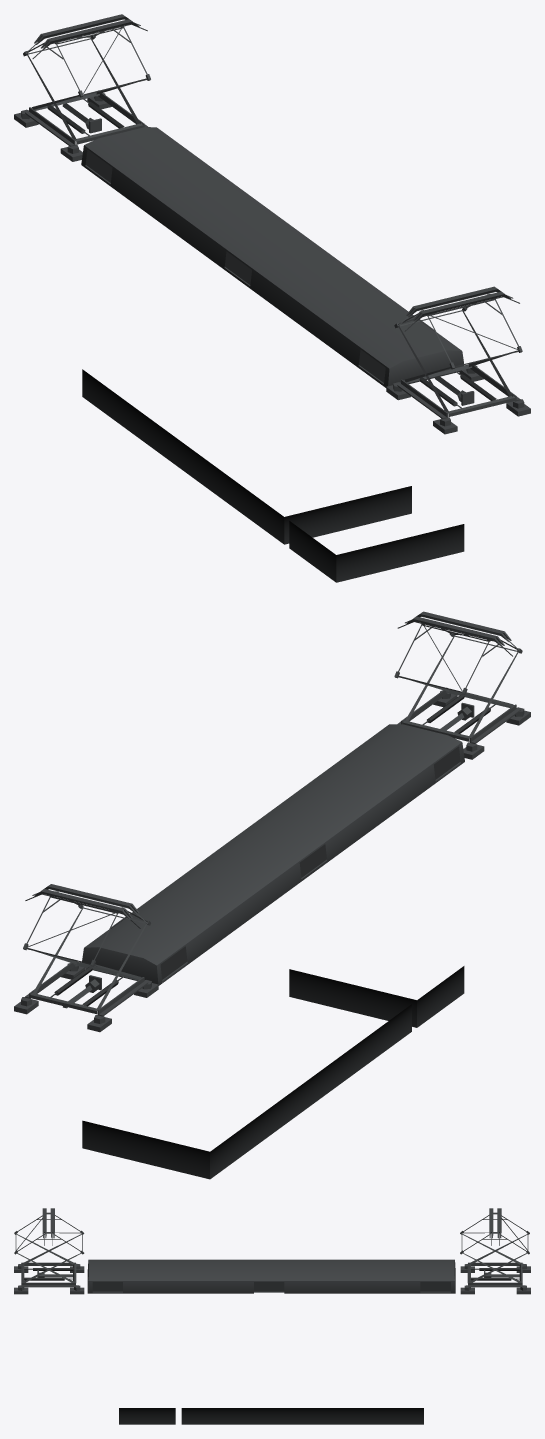
Rendered from UV_PANTA00.glb.
3 views of the same model, one above another, from view 1: azimuth 30°, elevation 25°; view 2: azimuth 150°, elevation 25°; view 3: azimuth 270°, elevation 25° (orthographic). The views are drawn at different scales.
Parts seen in each view (by area): view 1: obj1; view 2: obj1; view 3: obj1.
Boxes of the visible parts, left/top/right/bottom form: obj1: left=14, top=14, right=530, bottom=582; obj1: left=14, top=611, right=530, bottom=1179; obj1: left=14, top=1208, right=530, bottom=1424.
Size of the model in its own units: 4.96 by 11.48 by 28.94.
1 material, 1 textured.
